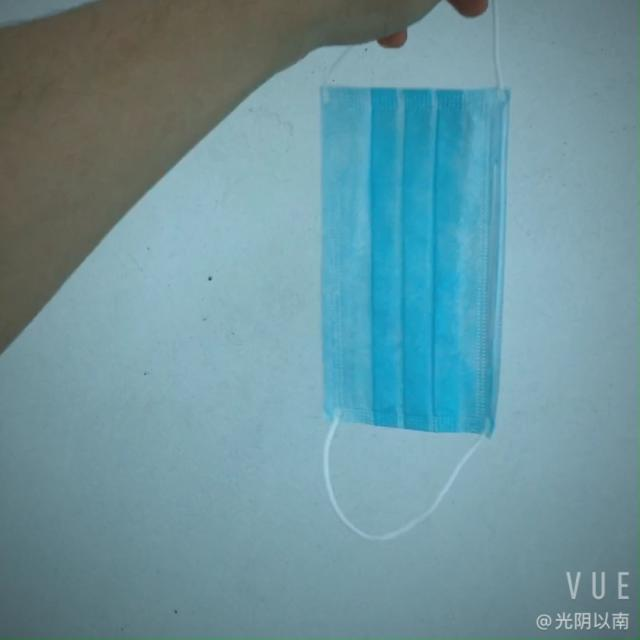face mask: (289, 62, 527, 460)
